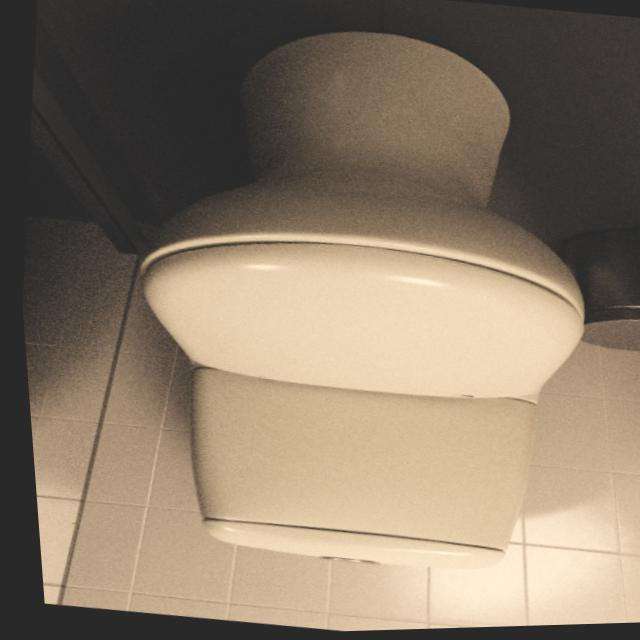toilet: (85, 2, 628, 597)
